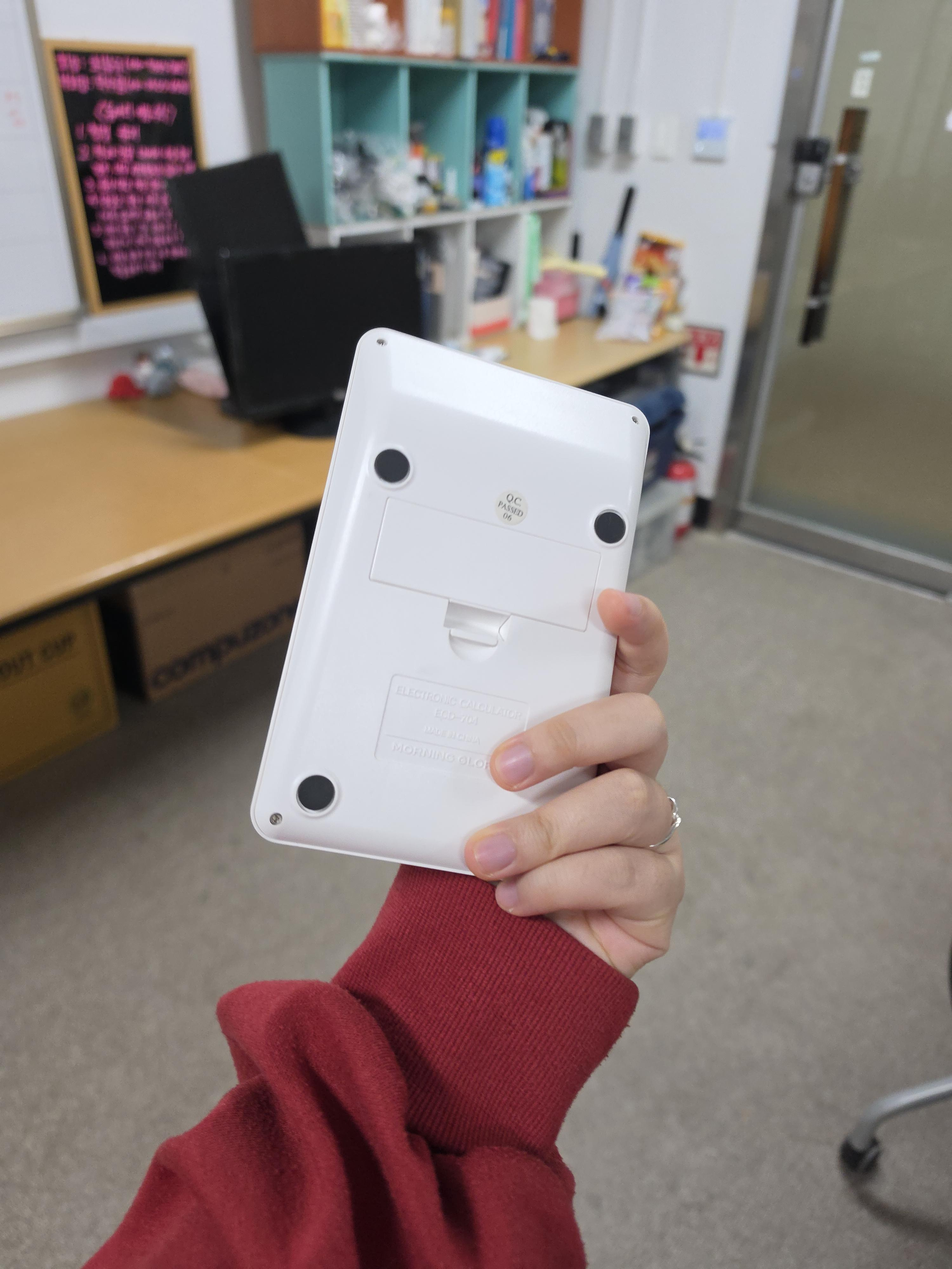calculator: (251, 327, 650, 876)
